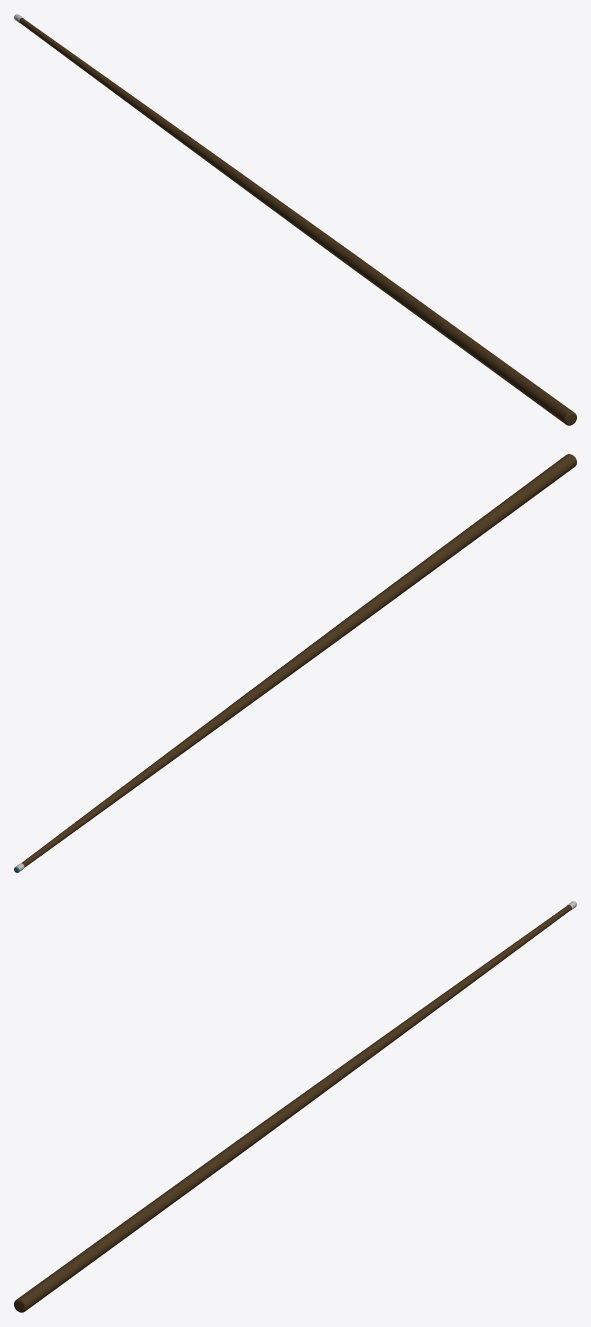
The model's file is Pool_Cue.fbx.
3 renders of one model, top to bottom at view 1: azimuth 30°, elevation 25°; view 2: azimuth 150°, elevation 25°; view 3: azimuth 330°, elevation 25°, orthographic.
Parts seen in each view (by area): view 1: Pool_Cue; view 2: Pool_Cue; view 3: Pool_Cue.
Part boxes in pixels (x1=…): Pool_Cue: x1=14, y1=14, x2=576, y2=425; Pool_Cue: x1=14, y1=454, x2=576, y2=872; Pool_Cue: x1=14, y1=901, x2=576, y2=1312.
Size of the model in its own units: 0.0195 by 0.0205 by 1.47.
